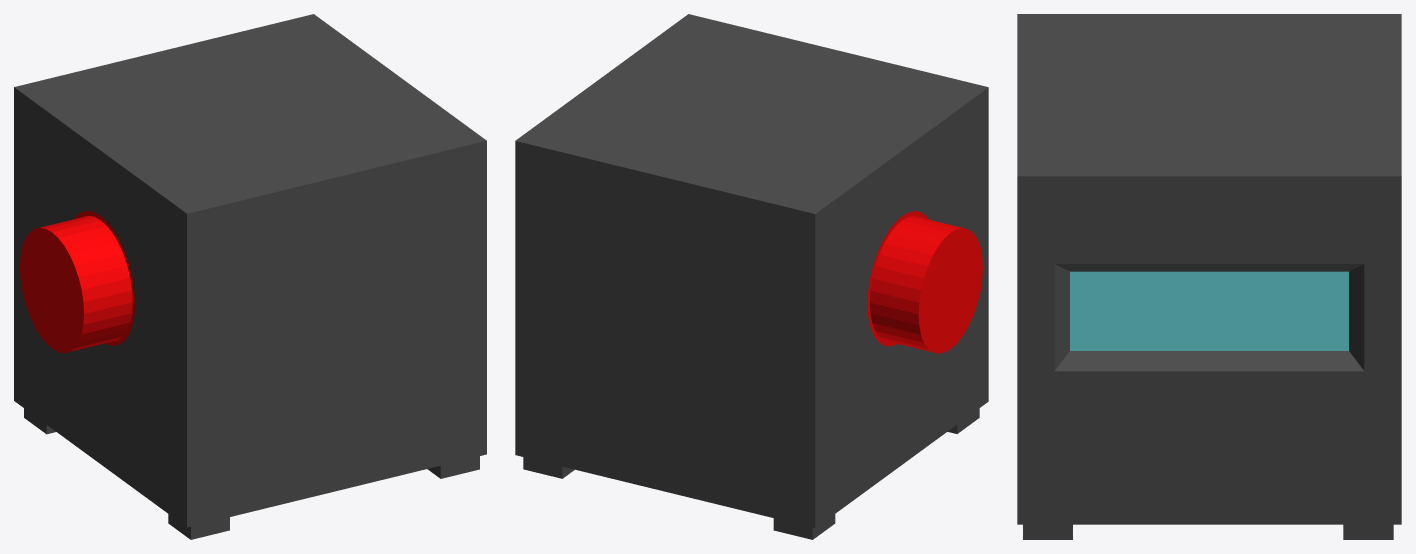
The model's file is DigitalClock.fbx.
3 views of the same model, side by side, from view 1: azimuth 30°, elevation 25°; view 2: azimuth 150°, elevation 25°; view 3: azimuth 270°, elevation 25° (orthographic). The views are drawn at different scales.
Visible parts, largest first — view 1: Cube, Cylinder; view 2: Cube, Cylinder; view 3: Cube.
Part boxes in pixels (x1,y1,x2,y2): Cube: (14, 14, 486, 539); Cylinder: (20, 215, 132, 353); Cube: (515, 14, 988, 539); Cylinder: (870, 216, 982, 353); Cube: (1017, 14, 1401, 539).
Size of the model in its own units: 233 by 210 by 200.
